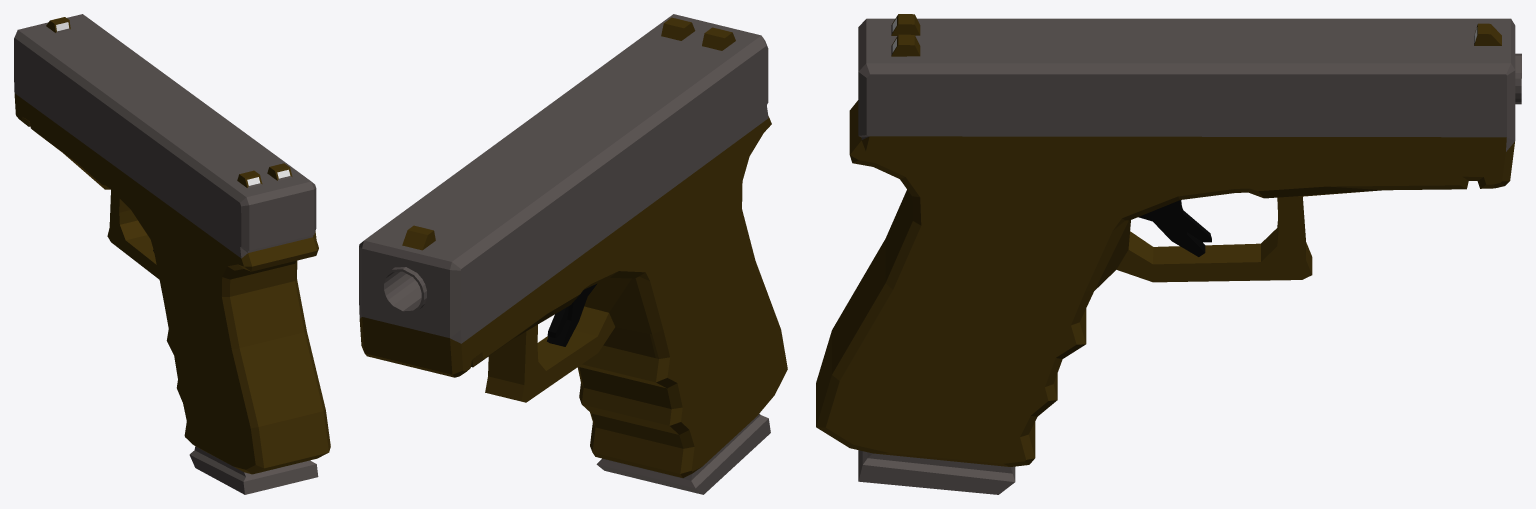
Rendered from Glock.fbx_Collection.fbx.
3 renders of one model, left to right at view 1: azimuth 30°, elevation 25°; view 2: azimuth 150°, elevation 25°; view 3: azimuth 270°, elevation 25°, orthographic. The views are drawn at different scales.
Parts seen in each view (by area): view 1: Cube; view 2: Cube; view 3: Cube.
Part boxes in pixels (x1=…): Cube: x1=14, y1=14, x2=330, y2=494; Cube: x1=359, y1=14, x2=787, y2=494; Cube: x1=816, y1=14, x2=1521, y2=494.
Bounding box in the file's own units: 82.83 × 329 × 478.
